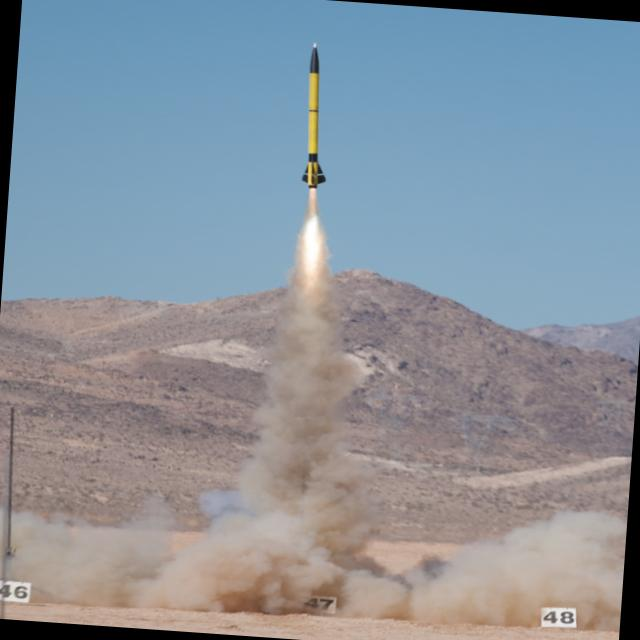rocket: (282, 43, 344, 272)
